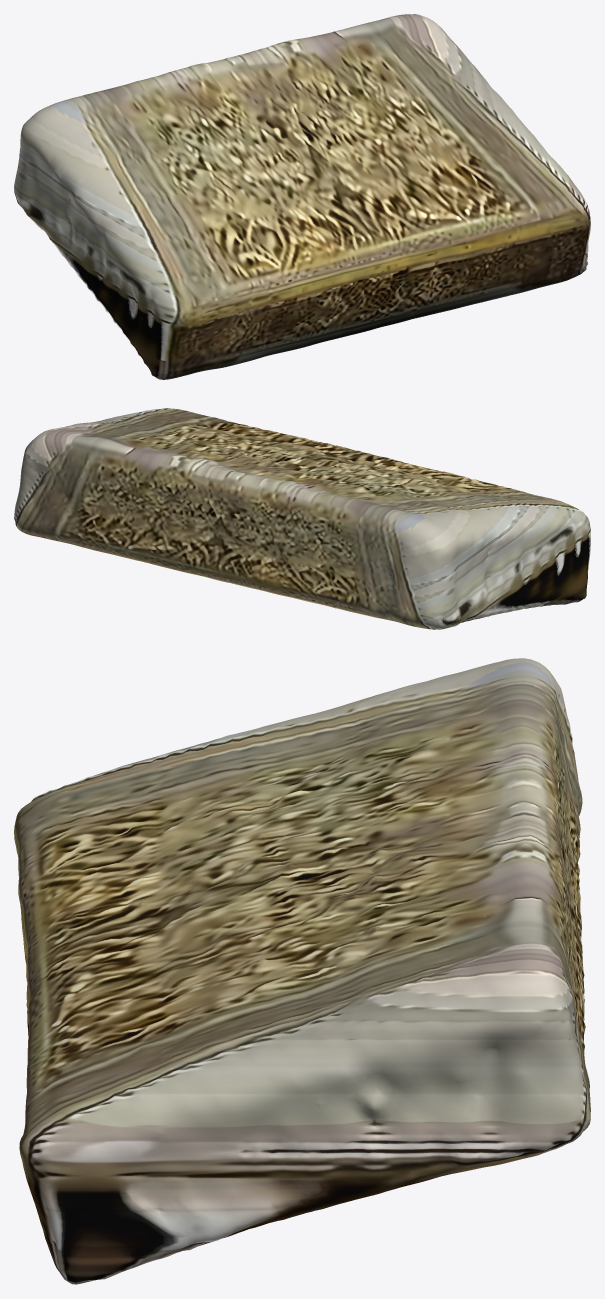
File: kfl-2304.glb
3 views of the same model, one above another, from view 1: azimuth 30°, elevation 25°; view 2: azimuth 150°, elevation 25°; view 3: azimuth 270°, elevation 25° (orthographic). The views are drawn at different scales.
Visible parts, largest first — view 1: kfl-2304; view 2: kfl-2304; view 3: kfl-2304.
Part boxes in pixels (<box>): kfl-2304: <box>14,14,590,379</box>; kfl-2304: <box>14,408,590,629</box>; kfl-2304: <box>14,658,590,1284</box>.
Bounding box in the file's own units: 0.9917 × 0.3839 × 0.6571.
1 material, 1 textured.
